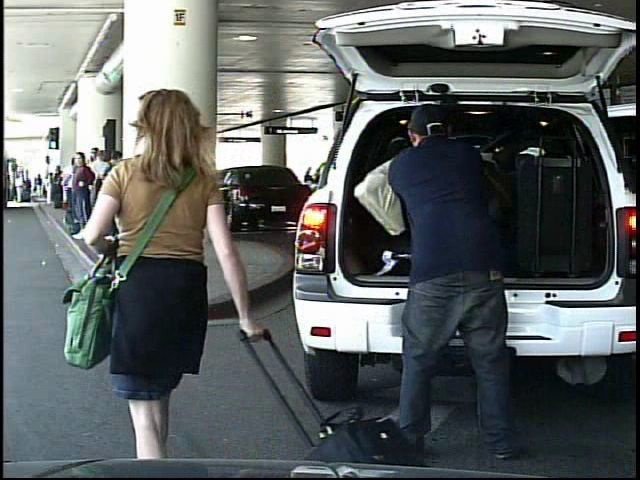person: (89, 79, 253, 457), (379, 98, 529, 464), (302, 166, 315, 197), (14, 173, 25, 204), (35, 173, 45, 200)
